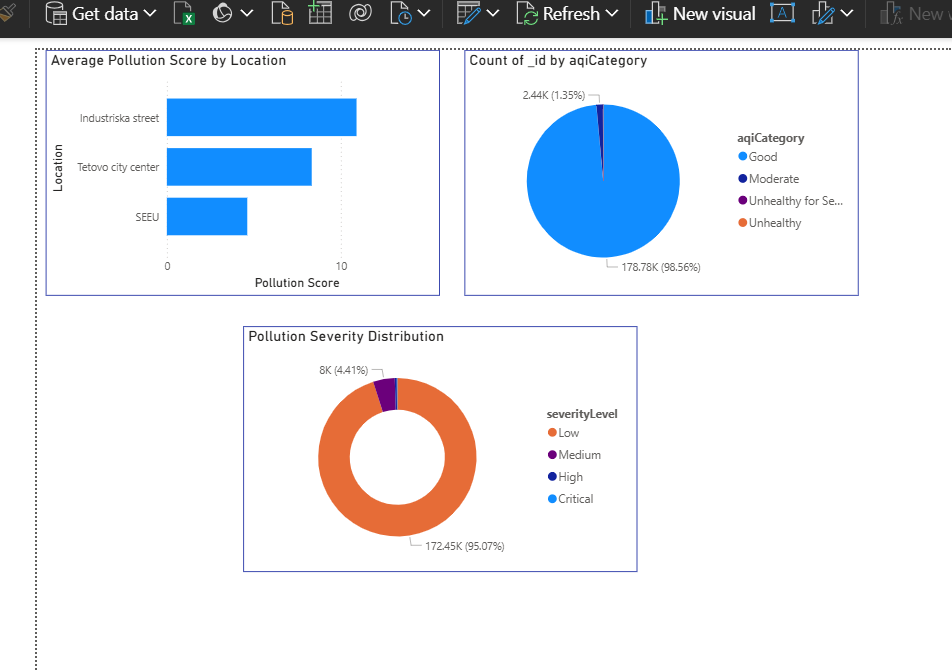

The page's visual inventory and layout, read from the dashboard file:
{"tool":"powerbi","page":{"name":"Pollution Analysis","canvas":[1280,720],"ordinal":1},"visuals":[{"type":"clusteredBarChart","title":"Average Pollution Score by Location","fields":{"Category":["MongoSensorReadings.location.name"],"Y":["Avg(MongoSensorReadings.pollutionScore)"]},"box":[10,0,450,281],"z":0},{"type":"donutChart","title":"Pollution Severity Distribution","fields":{"Category":["MongoSensorReadings.severityLevel"],"Y":["CountNonNull(MongoSensorReadings._id)"]},"box":[235,316,450,281],"z":1},{"type":"pieChart","fields":{"Category":["MongoSensorReadings.aqiCategory"],"Y":["CountNonNull(MongoSensorReadings._id)"]},"box":[489,0,450,281],"z":2}]}

Visuals, with their boxes on the page's 1280x720 design canvas (x1, y1, x2, y2). These are canvas units, not pixel positions in the 952x671 screenshot, which may show the page scaled, cropped or inside an application window:
"Average Pollution Score by Location" clusteredBarChart: region(10, 0, 460, 281)
"Pollution Severity Distribution" donutChart: region(235, 316, 685, 597)
pieChart - MongoSensorReadings.aqiCategory x CountNonNull(MongoSensorReadings._id): region(489, 0, 939, 281)
